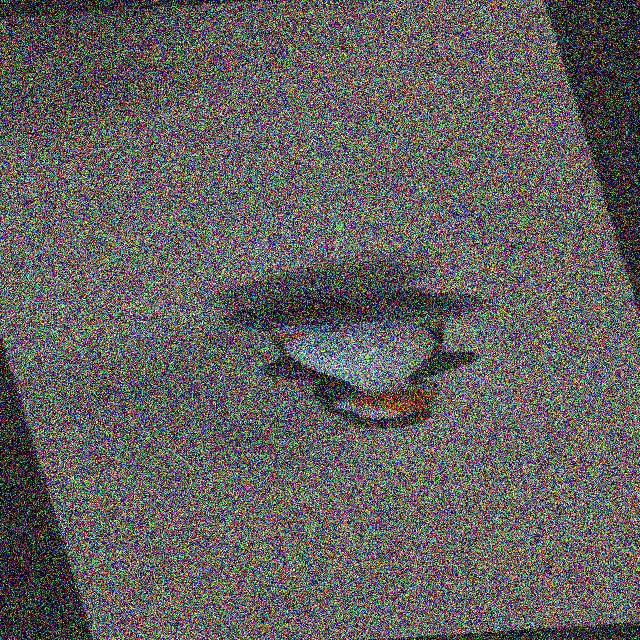Penguin: (228, 284, 514, 440)
